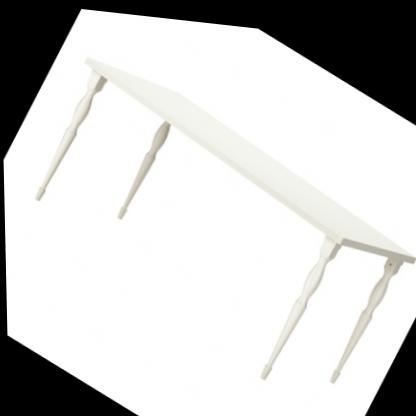Table: (0, 22, 416, 416)
